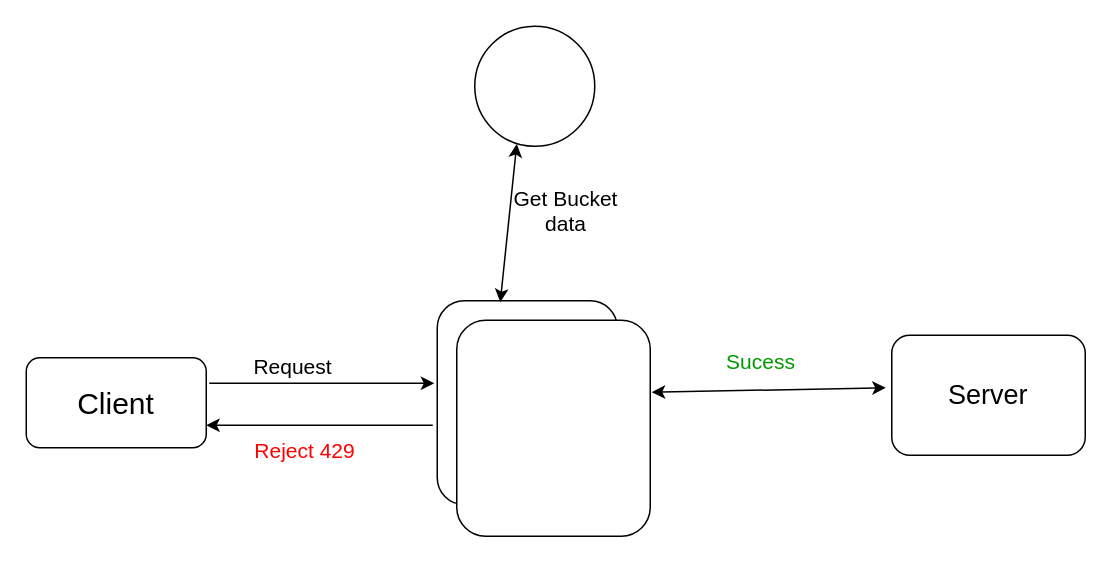
Image size: 1112x563. Some labels were removed from this diagram. The box of each missing label's shape, as (x1, y1, x2, y2) in pixels:
API Gateways: (455, 319, 650, 536)
Redis: (473, 25, 595, 146)
